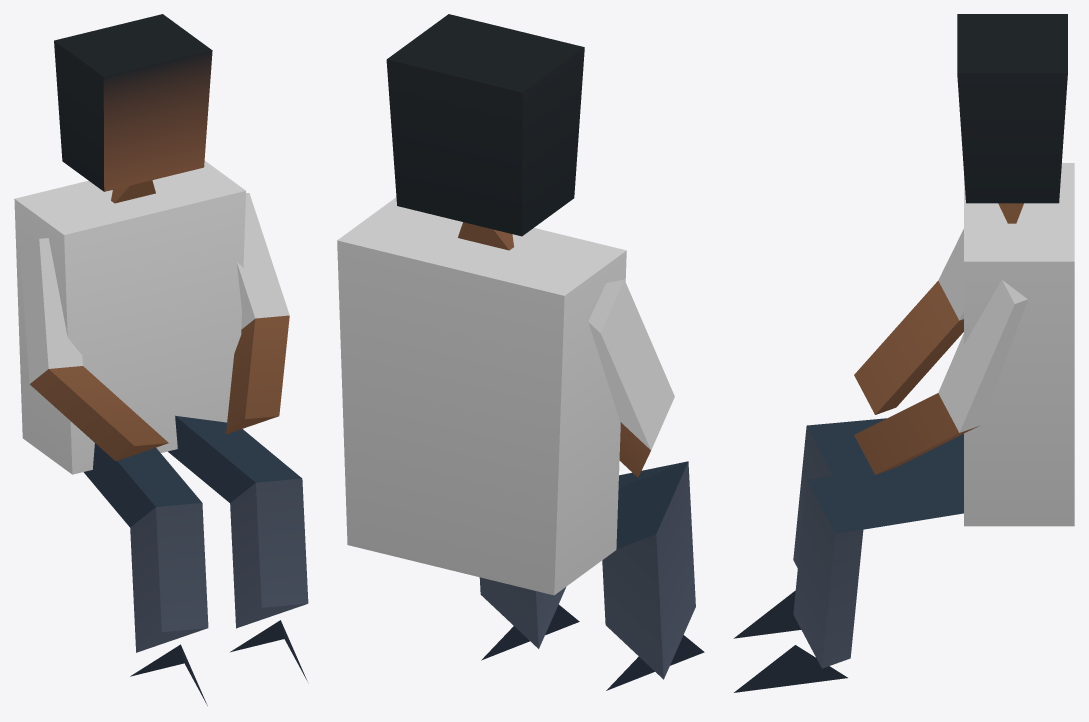
The model's file is fan-02.glb.
The picture shows the model from 3 angles, left to right: view 1: azimuth 30°, elevation 25°; view 2: azimuth 150°, elevation 25°; view 3: azimuth 270°, elevation 25°; orthographic projection. The views are drawn at different scales.
Parts seen in each view (by area): view 1: fan-02; view 2: fan-02; view 3: fan-02.
Part boxes in pixels (x1=…): fan-02: x1=14, y1=14, x2=308, y2=705; fan-02: x1=337, y1=14, x2=704, y2=690; fan-02: x1=734, y1=14, x2=1074, y2=692.
Bounding box in the file's own units: 0.7275 × 1.55 × 0.77.
